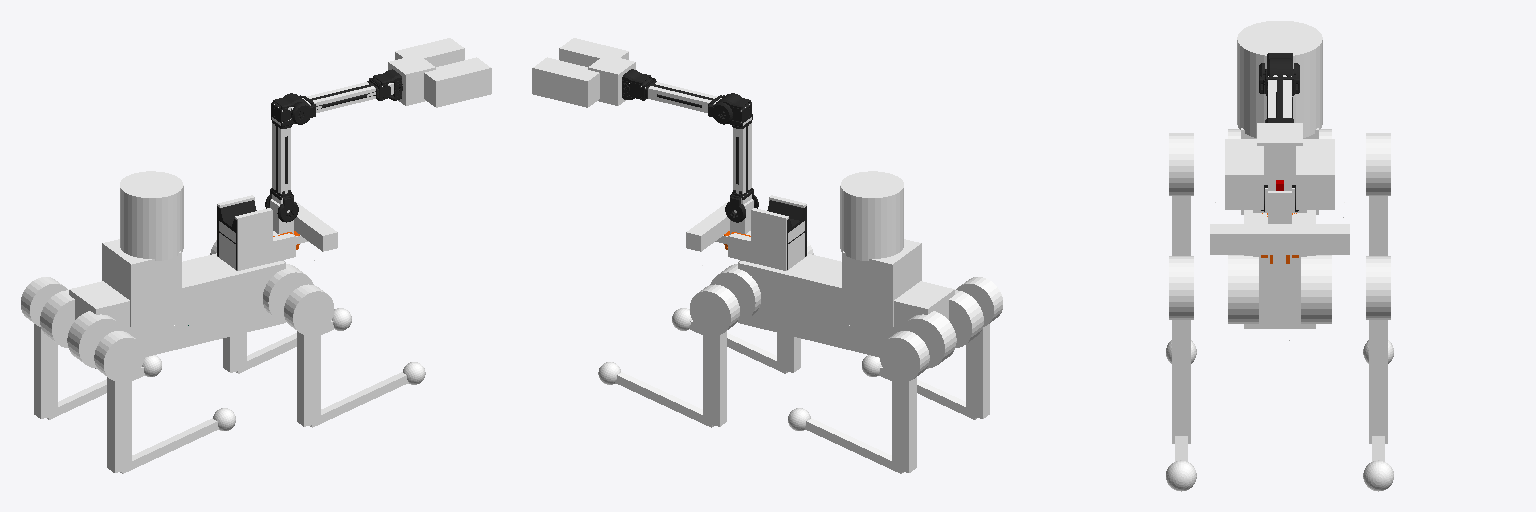
--- What the picture shows (computed from the rendered views, not written in the file) ---
The picture shows the robot from 3 angles, left to right: view 1: azimuth 30°, elevation 25°; view 2: azimuth 150°, elevation 25°; view 3: azimuth 270°, elevation 25°; orthographic projection.
Robot: go1 — 55 links, 54 joints (18 revolute, 2 prismatic, 34 fixed); root link base_link; default pose: all joints at 0 but 4 set to mid-range because 0 is outside their limits (FR_calf_joint = -1.78, FL_calf_joint = -1.78, RR_calf_joint = -1.78, RL_calf_joint = -1.78).
Visible links, largest first — view 1: trunk, robosense, robosense_bracket, open_manipulator_bracket, link3, gripper_link_sub, link4, RR_thigh, FR_thigh, RL_thigh, RR_thigh_shoulder, FR_thigh_shoulder (+12 smaller); view 2: trunk, robosense, robosense_bracket, open_manipulator_bracket, link3, gripper_link, link4, RL_thigh, FL_thigh, RR_thigh, RL_thigh_shoulder, FL_thigh_shoulder (+12 smaller); view 3: robosense, zed2, trunk, gripper_link, gripper_link_sub, link5, FR_thigh, FL_thigh, FR_hip, FL_hip, link4, FR_thigh_shoulder (+10 smaller).
Boxes of the visible links, bbox=[...] form: trunk: bbox=[69, 253, 285, 368]; robosense: bbox=[120, 171, 183, 260]; robosense_bracket: bbox=[102, 239, 181, 327]; open_manipulator_bracket: bbox=[217, 195, 295, 270]; link3: bbox=[265, 94, 306, 222]; gripper_link_sub: bbox=[424, 57, 491, 107]; link4: bbox=[284, 69, 402, 124]; RR_thigh: bbox=[107, 377, 131, 472]; FR_thigh: bbox=[297, 331, 320, 426]; RL_thigh: bbox=[34, 324, 57, 418]; RR_thigh_shoulder: bbox=[94, 331, 144, 381]; FR_thigh_shoulder: bbox=[284, 284, 333, 335]; trunk: bbox=[738, 253, 954, 368]; robosense: bbox=[840, 171, 903, 260]; robosense_bracket: bbox=[842, 239, 921, 327]; open_manipulator_bracket: bbox=[728, 195, 806, 270]; link3: bbox=[716, 94, 758, 222]; gripper_link: bbox=[532, 57, 599, 107]; link4: bbox=[622, 69, 741, 124]; RL_thigh: bbox=[892, 377, 916, 472]; FL_thigh: bbox=[703, 331, 726, 426]; RR_thigh: bbox=[966, 324, 989, 418]; RL_thigh_shoulder: bbox=[879, 331, 929, 381]; FL_thigh_shoulder: bbox=[690, 284, 739, 335]; robosense: bbox=[1237, 21, 1322, 137]; zed2: bbox=[1210, 224, 1349, 254]; trunk: bbox=[1244, 210, 1315, 328]; gripper_link: bbox=[1296, 139, 1334, 209]; gripper_link_sub: bbox=[1225, 139, 1263, 209]; link5: bbox=[1257, 123, 1302, 184]; FR_thigh: bbox=[1172, 320, 1190, 443]; FL_thigh: bbox=[1369, 320, 1387, 443]; FR_hip: bbox=[1228, 255, 1258, 323]; FL_hip: bbox=[1301, 255, 1331, 323]; link4: bbox=[1259, 63, 1299, 122]; FR_thigh_shoulder: bbox=[1169, 256, 1193, 319].
Size in the robot's own frame: 0.8165 by 0.2935 by 0.5705 metres.
5 mesh visuals loaded from 20 distinct referenced files (5 binary STL); not drawn: 29 (reference not matched to a file when rendering).

URDF robot description (go1):
<?xml version="1.0" ?>
<!-- =================================================================================== -->
<!-- |    This document was autogenerated by xacro from xacro/robot.xacro              | -->
<!-- |    EDITING THIS FILE BY HAND IS NOT RECOMMENDED                                 | -->
<!-- =================================================================================== -->
<robot name="go1">
  <material name="black">
    <color rgba="0.0 0.0 0.0 1.0"/>
  </material>
  <material name="blue">
    <color rgba="0.0 0.0 0.8 1.0"/>
  </material>
  <material name="green">
    <color rgba="0.0 0.8 0.0 1.0"/>
  </material>
  <material name="grey">
    <color rgba="0.2 0.2 0.2 1.0"/>
  </material>
  <material name="silver">
    <color rgba="0.9137254901960784 0.9137254901960784 0.8470588235294118 1.0"/>
  </material>
  <material name="orange">
    <color rgba="1.0 0.4235294117647059 0.0392156862745098 1.0"/>
  </material>
  <material name="brown">
    <color rgba="0.8705882352941177 0.8117647058823529 0.7647058823529411 1.0"/>
  </material>
  <material name="red">
    <color rgba="0.8 0.0 0.0 1.0"/>
  </material>
  <material name="white">
    <color rgba="1.0 1.0 1.0 1.0"/>
  </material>
  <material name="trans">
    <color rgba="1 1 1 0.2"/>
  </material>
  <!-- ros_control plugin -->
  <gazebo>
    <plugin filename="libgazebo_ros_control.so" name="gazebo_ros_control">
      <robotNamespace>/go1_gazebo</robotNamespace>
      <robotSimType>gazebo_ros_control/DefaultRobotHWSim</robotSimType>
    </plugin>
  </gazebo>
  <!-- Show the trajectory of trunk center. -->
  <gazebo>
    <plugin filename="libLinkPlot3DPlugin.so" name="3dplot">
      <frequency>10</frequency>
      <plot>
        <link>base</link>
        <pose>0 0 0 0 0 0</pose>
        <material>Gazebo/Yellow</material>
      </plot>
    </plugin>
  </gazebo>
  <!-- Show the trajectory of foot. You can add another trajectory about another foot. -->
  <!-- <gazebo>
        <plugin name="3dplot" filename="libLinkPlot3DPlugin.so">
            <frequency>100</frequency>
            <plot>
                <link>FL_foot</link>
                <pose>0 0 0 0 0 0</pose>
                <material>Gazebo/Green</material>
            </plot>
        </plugin>
    </gazebo> -->
  <gazebo>
    <plugin filename="libgazebo_ros_force.so" name="gazebo_ros_force">
      <bodyName>trunk</bodyName>
      <topicName>/apply_force/trunk</topicName>
    </plugin>
  </gazebo>
  <gazebo reference="imu_link">
    <gravity>true</gravity>
    <sensor name="imu_sensor" type="imu">
      <always_on>true</always_on>
      <update_rate>1000</update_rate>
      <visualize>true</visualize>
      <topic>__default_topic__</topic>
      <plugin filename="libgazebo_ros_imu_sensor.so" name="imu_plugin">
        <topicName>trunk_imu</topicName>
        <bodyName>imu_link</bodyName>
        <updateRateHZ>1000.0</updateRateHZ>
        <gaussianNoise>0.0</gaussianNoise>
        <xyzOffset>0 0 0</xyzOffset>
        <rpyOffset>0 0 0</rpyOffset>
        <frameName>imu_link</frameName>
      </plugin>
      <pose>0 0 0 0 0 0</pose>
    </sensor>
  </gazebo>
  <!-- Depth camera -->
  <!-- <gazebo>
        <plugin name="camera_plugin" filename="libgazebo_ros_openni_kinect.so">
            <baseline>0.025</baseline>
            <always_on>true</always_on>
            <updateRate>0.0</updateRate>
            <cameraName>unitree_camera_left</cameraName>
            <frameName>depthCamera_link_left</frameName>
            <imageTopicName>rgb/imageRaw_left</imageTopicName>
            <depthImageTopicName>depth/imageRaw_left</depthImageTopicName>
            <pointCloudTopicName>depth/points_left</pointCloudTopicName>
            <cameraInfoTopicName>rgb/cameraInfo_left</cameraInfoTopicName>              
            <depthImageCameraInfoTopicName>depth/cameraInfo_left</depthImageCameraInfoTopicName>            
            <pointCloudCutoff>0.1</pointCloudCutoff>                
            <pointCloudCutoffMax>1.5</pointCloudCutoffMax>                
            <distortionK1>0.0</distortionK1>
            <distortionK2>0.0</distortionK2>
            <distortionK3>0.0</distortionK3>
            <distortionT1>0.0</distortionT1>
            <distortionT2>0.0</distortionT2>
            <CxPrime>0.0</CxPrime>
            <Cx>0.0045</Cx>
            <Cy>0.0039</Cy>
            <focalLength>0.004</focalLength>
            <hackBaseline>0.0</hackBaseline>
        </plugin>
    </gazebo> -->
  <!-- <gazebo reference="depthCamera_link_left">
        <sensor name="unitree_camera_left" type="depth_camera">
            <update_rate>16</update_rate>
            <always_on>true</always_on>
            <visualize>true</visualize>
            <camera>
                <horizontal_fov>2.094</horizontal_fov>
                <image>
                    <width>928</width>
                    <height>800</height>
                    <format>R8G8B8</format>
                </image>
                <depth_camera></depth_camera>
                <clip>
                    <near>0.1</near>
                    <far>100</far>
                </clip>
            </camera>
            <plugin name="camera_plugin" filename="libgazebo_ros_openni_kinect.so">
                <baseline>0.025</baseline>
                <always_on>true</always_on>
                <updateRate>0.0</updateRate>
                <cameraName>unitree_camera_left</cameraName>
                <frameName>depthCamera_link_left</frameName>
                <imageTopicName>rgb/imageRaw_left</imageTopicName>
                <depthImageTopicName>depth/imageRaw_left</depthImageTopicName>
                <pointCloudTopicName>depth/points_left</pointCloudTopicName>
                <cameraInfoTopicName>rgb/cameraInfo_left</cameraInfoTopicName>              
                <depthImageCameraInfoTopicName>depth/cameraInfo_left</depthImageCameraInfoTopicName>            
                <pointCloudCutoff>0.1</pointCloudCutoff>                
                <pointCloudCutoffMax>1.5</pointCloudCutoffMax>                
                <distortionK1>0.0</distortionK1>
                <distortionK2>0.0</distortionK2>
                <distortionK3>0.0</distortionK3>
                <distortionT1>0.0</distortionT1>
                <distortionT2>0.0</distortionT2>
                <CxPrime>0.0</CxPrime>
                <Cx>0.0045</Cx>
                <Cy>0.0039</Cy>
                <focalLength>0.004</focalLength>
                <hackBaseline>0.0</hackBaseline>
            </plugin>
        </sensor>
    </gazebo> -->
  <gazebo reference="depthCamera_link_left">
    <sensor name="camera_link_camera" type="depth">
      <update_rate>20</update_rate>
      <camera>
        <horizontal_fov>1.047198</horizontal_fov>
        <image>
          <width>640</width>
          <height>480</height>
          <format>R8G8B8</format>
        </image>
        <clip>
          <near>0.05</near>
          <far>3</far>
        </clip>
      </camera>
      <plugin filename="libgazebo_ros_openni_kinect.so" name="camera_link_controller">
        <baseline>0.2</baseline>
        <alwaysOn>true</alwaysOn>
        <updateRate>1.0</updateRate>
        <cameraName>camera_link_ir</cameraName>
        <imageTopicName>/camera_link/color/image_raw</imageTopicName>
        <cameraInfoTopicName>/camera_link/color/camera_info</cameraInfoTopicName>
        <depthImageTopicName>/camera_link/depth/image_raw</depthImageTopicName>
        <depthImageInfoTopicName>/camera_link/depth/camera_info</depthImageInfoTopicName>
        <pointCloudTopicName>/camera_link/depth/points</pointCloudTopicName>
        <frameName>depthCamera_link_left</frameName>
        <pointCloudCutoff>0.5</pointCloudCutoff>
        <pointCloudCutoffMax>3.0</pointCloudCutoffMax>
        <distortionK1>0.00000001</distortionK1>
        <distortionK2>0.00000001</distortionK2>
        <distortionK3>0.00000001</distortionK3>
        <distortionT1>0.00000001</distortionT1>
        <distortionT2>0.00000001</distortionT2>
        <CxPrime>0</CxPrime>
        <Cx>0</Cx>
        <Cy>0</Cy>
        <focalLength>0</focalLength>
        <hackBaseline>0</hackBaseline>
      </plugin>
    </sensor>
  </gazebo>
  <!-- Foot contacts. -->
  <gazebo reference="FR_calf">
    <sensor name="FR_foot_contact" type="contact">
      <update_rate>100</update_rate>
      <plugin filename="libunitreeFootContactPlugin.so" name="contactPlugin"/>
      <contact>
        <visual> <!-- a -->FR_calf_fixed_joint_lump__FR_foot_collision_1<material name="trans"/></visual> <!-- a -->
      </contact>
    </sensor>
  </gazebo>
  <gazebo reference="FL_calf">
    <sensor name="FL_foot_contact" type="contact">
      <update_rate>100</update_rate>
      <plugin filename="libunitreeFootContactPlugin.so" name="contactPlugin"/>
      <contact>
        <visual> <!-- a -->FL_calf_fixed_joint_lump__FL_foot_collision_1<material name="trans"/></visual> <!-- a -->
      </contact>
    </sensor>
  </gazebo>
  <gazebo reference="RR_calf">
    <sensor name="RR_foot_contact" type="contact">
      <update_rate>100</update_rate>
      <plugin filename="libunitreeFootContactPlugin.so" name="contactPlugin"/>
      <contact>
        <visual> <!-- a -->RR_calf_fixed_joint_lump__RR_foot_collision_1<material name="trans"/></visual> <!-- a -->
      </contact>
    </sensor>
  </gazebo>
  <gazebo reference="RL_calf">
    <sensor name="RL_foot_contact" type="contact">
      <update_rate>100</update_rate>
      <plugin filename="libunitreeFootContactPlugin.so" name="contactPlugin"/>
      <contact>
        <visual> <!-- a -->RL_calf_fixed_joint_lump__RL_foot_collision_1<material name="trans"/></visual> <!-- a -->
      </contact>
    </sensor>
  </gazebo>
  <!-- Visualization of Foot contacts. -->
  <gazebo reference="FR_foot">
    <visual>
      <plugin filename="libunitreeDrawForcePlugin.so" name="drawForcePlugin">
        <topicName>FR_foot_contact</topicName>
      </plugin>
    </visual>
  </gazebo>
  <gazebo reference="FL_foot">
    <visual>
      <plugin filename="libunitreeDrawForcePlugin.so" name="drawForcePlugin">
        <topicName>FL_foot_contact</topicName>
      </plugin>
    </visual>
  </gazebo>
  <gazebo reference="RR_foot">
    <visual>
      <plugin filename="libunitreeDrawForcePlugin.so" name="drawForcePlugin">
        <topicName>RR_foot_contact</topicName>
      </plugin>
    </visual>
  </gazebo>
  <gazebo reference="RL_foot">
    <visual>
      <plugin filename="libunitreeDrawForcePlugin.so" name="drawForcePlugin">
        <topicName>RL_foot_contact</topicName>
      </plugin>
    </visual>
  </gazebo>
  <gazebo reference="base">
    <material>Gazebo/Green</material>
    <turnGravityOff>false</turnGravityOff>
  </gazebo>
  <gazebo reference="trunk">
    <mu1>0.2</mu1>
    <mu2>0.2</mu2>
    <kp value="1000000.0"/>
    <kd value="1.0"/>
  </gazebo>
  <gazebo reference="stick_link">
    <mu1>0.2</mu1>
    <mu2>0.2</mu2>
    <material>Gazebo/White</material>
  </gazebo>
  <gazebo reference="imu_link">
    <mu1>0.2</mu1>
    <mu2>0.2</mu2>
    <material>Gazebo/Red</material>
  </gazebo>
  <!-- FL leg -->
  <gazebo reference="FL_hip">
    <mu1>0.2</mu1>
    <mu2>0.2</mu2>
    <material>Gazebo/DarkGrey</material>
  </gazebo>
  <gazebo reference="FL_thigh">
    <mu1>0.2</mu1>
    <mu2>0.2</mu2>
    <self_collide>1</self_collide>
    <material>Gazebo/DarkGrey</material>
    <kp value="1000000.0"/>
    <kd value="1.0"/>
  </gazebo>
  <gazebo reference="FL_calf">
    <mu1>0.2</mu1>
    <mu2>0.2</mu2>
    <self_collide>1</self_collide>
  </gazebo>
  <gazebo reference="FL_foot">
    <mu1>0.6</mu1>
    <mu2>0.6</mu2>
    <self_collide>1</self_collide>
    <material>Gazebo/DarkGrey</material>
    <kp value="1000000.0"/>
    <kd value="1.0"/>
  </gazebo>
  <!-- FR leg -->
  <gazebo reference="FR_hip">
    <mu1>0.2</mu1>
    <mu2>0.2</mu2>
    <material>Gazebo/DarkGrey</material>
  </gazebo>
  <gazebo reference="FR_thigh">
    <mu1>0.2</mu1>
    <mu2>0.2</mu2>
    <self_collide>1</self_collide>
    <material>Gazebo/DarkGrey</material>
    <kp value="1000000.0"/>
    <kd value="1.0"/>
  </gazebo>
  <gazebo reference="FR_calf">
    <mu1>0.2</mu1>
    <mu2>0.2</mu2>
    <self_collide>1</self_collide>
  </gazebo>
  <gazebo reference="FR_foot">
    <mu1>0.6</mu1>
    <mu2>0.6</mu2>
    <self_collide>1</self_collide>
    <material>Gazebo/DarkGrey</material>
    <kp value="1000000.0"/>
    <kd value="1.0"/>
  </gazebo>
  <!-- RL leg -->
  <gazebo reference="RL_hip">
    <mu1>0.2</mu1>
    <mu2>0.2</mu2>
    <material>Gazebo/DarkGrey</material>
  </gazebo>
  <gazebo reference="RL_thigh">
    <mu1>0.2</mu1>
    <mu2>0.2</mu2>
    <self_collide>1</self_collide>
    <material>Gazebo/DarkGrey</material>
    <kp value="1000000.0"/>
    <kd value="1.0"/>
  </gazebo>
  <gazebo reference="RL_calf">
    <mu1>0.2</mu1>
    <mu2>0.2</mu2>
    <self_collide>1</self_collide>
  </gazebo>
  <gazebo reference="RL_foot">
    <mu1>0.6</mu1>
    <mu2>0.6</mu2>
    <self_collide>1</self_collide>
    <material>Gazebo/DarkGrey</material>
    <kp value="1000000.0"/>
    <kd value="1.0"/>
  </gazebo>
  <!-- RR leg -->
  <gazebo reference="RR_hip">
    <mu1>0.2</mu1>
    <mu2>0.2</mu2>
    <material>Gazebo/DarkGrey</material>
  </gazebo>
  <gazebo reference="RR_thigh">
    <mu1>0.2</mu1>
    <mu2>0.2</mu2>
    <self_collide>1</self_collide>
    <material>Gazebo/DarkGrey</material>
    <kp value="1000000.0"/>
    <kd value="1.0"/>
  </gazebo>
  <gazebo reference="RR_calf">
    <mu1>0.2</mu1>
    <mu2>0.2</mu2>
    <self_collide>1</self_collide>
  </gazebo>
  <gazebo reference="RR_foot">
    <mu1>0.6</mu1>
    <mu2>0.6</mu2>
    <self_collide>1</self_collide>
    <material>Gazebo/DarkGrey</material>
    <kp value="1000000.0"/>
    <kd value="1.0"/>
  </gazebo>
  <link name="base_link">
    <visual>
      <origin rpy="0 0 0" xyz="0 0 0"/>
      <geometry>
        <box size="0.001 0.001 0.001"/>
      </geometry>
    </visual>
  </link>
  <joint name="floating_base" type="fixed">
    <origin rpy="0 0 0" xyz="0 0 0"/>
    <parent link="base_link"/>
    <child link="trunk"/>
  </joint>
  <link name="trunk">
    <visual>
      <origin rpy="0 0 0" xyz="0 0 0"/>
      <geometry>
        <mesh filename="package://go1_description/meshes/trunk.dae" scale="1 1 1"/>
      </geometry>
      <!-- <material name="orange"/> -->
    </visual>
    <visual> <!-- a -->
      <origin rpy="0 0 0" xyz="0 0 0"/>
      <geometry>
        <box size="0.3762 0.0935 0.114"/>
      </geometry>
    <material name="trans"/></visual> <!-- a -->
    <inertial>
      <origin rpy="0 0 0" xyz="0.0223 0.002 -0.0005"/>
      <mass value="5.204"/>
      <inertia ixx="0.0168352186" ixy="0.0004636141" ixz="0.0002367952" iyy="0.0656071082" iyz="3.6671e-05" izz="0.0742720659"/>
    </inertial>
  </link>
  <joint name="imu_joint" type="fixed">
    <parent link="trunk"/>
    <child link="imu_link"/>
    <origin rpy="0 0 0" xyz="-0.01592 -0.06659 -0.00617"/>
  </joint>
  <link name="imu_link">
    <inertial>
      <mass value="0.001"/>
      <origin rpy="0 0 0" xyz="0 0 0"/>
      <inertia ixx="0.0001" ixy="0" ixz="0" iyy="0.0001" iyz="0" izz="0.0001"/>
    </inertial>
    <visual>
      <origin rpy="0 0 0" xyz="0 0 0"/>
      <geometry>
        <box size="0.001 0.001 0.001"/>
      </geometry>
      <!-- <material name="red"/> -->
    </visual>
    <visual> <!-- a -->
      <origin rpy="0 0 0" xyz="0 0 0"/>
      <geometry>
        <box size=".001 .001 .001"/>
      </geometry>
    <material name="trans"/></visual> <!-- a -->
  </link>
  <joint name="FR_hip_joint" type="revolute">
    <origin rpy="0 0 0" xyz="0.1881 -0.04675 0"/>
    <parent link="trunk"/>
    <child link="FR_hip"/>
    <axis xyz="1 0 0"/>
    <dynamics damping="0.01" friction="0.2"/>
    <limit effort="23.7" lower="-1.0471975511965976" upper="1.0471975511965976" velocity="30.1"/>
  </joint>
  <link name="FR_hip">
    <visual>
      <origin rpy="3.141592653589793 0 0" xyz="0 0 0"/>
      <geometry>
        <mesh filename="package://go1_description/meshes/hip.dae" scale="1 1 1"/>
      </geometry>
      <!-- <material name="orange"/> -->
    </visual>
    <visual> <!-- a -->
      <origin rpy="1.5707963267948966 0 0" xyz="0 0 0"/>
      <geometry>
        <cylinder length="0.04" radius="0.046"/>
      </geometry>
    <material name="trans"/></visual> <!-- a -->
    <inertial>
      <origin rpy="0 0 0" xyz="-0.00541 0.00074 6e-06"/>
      <mass value="0.591"/>
      <inertia ixx="0.000374268192" ixy="-3.6844422e-05" ixz="-9.86754e-07" iyy="0.000635923669" iyz="1.172894e-06" izz="0.000457647394"/>
    </inertial>
  </link>
  <joint name="FR_hip_fixed" type="fixed">
    <origin rpy="0 0 0" xyz="0 -0.08 0"/>
    <parent link="FR_hip"/>
    <child link="FR_thigh_shoulder"/>
  </joint>
  <!-- this link is only for collision -->
  <link name="FR_thigh_shoulder">
    <visual> <!-- a -->
      <origin rpy="1.5707963267948966 0 0" xyz="0 0 0"/>
      <geometry>
        <cylinder length="0.032" radius="0.041"/>
      </geometry>
    <material name="trans"/></visual> <!-- a -->
  </link>
  <joint name="FR_thigh_joint" type="revolute">
    <origin rpy="0 0 0" xyz="0 -0.08 0"/>
    <parent link="FR_hip"/>
    <child link="FR_thigh"/>
    <axis xyz="0 1 0"/>
    <dynamics damping="0.01" friction="0.2"/>
    <limit effort="23.7" lower="-0.6632251157578452" upper="2.9670597283903604" velocity="30.1"/>
  </joint>
  <link name="FR_thigh">
    <visual>
      <origin rpy="0 0 0" xyz="0 0 0"/>
      <geometry>
        <mesh filename="package://go1_description/meshes/thigh_mirror.dae" scale="1 1 1"/>
      </geometry>
      <!-- <material name="orange"/> -->
    </visual>
    <visual> <!-- a -->
      <origin rpy="0 1.5707963267948966 0" xyz="0 0 -0.1065"/>
      <geometry>
        <box size="0.213 0.0245 0.034"/>
      </geometry>
    <material name="trans"/></visual> <!-- a -->
    <inertial>
      <origin rpy="0 0 0" xyz="-0.003468 0.018947 -0.032736"/>
      <mass value="0.92"/>
      <inertia ixx="0.005851561134" ixy="-1.783284e-06" ixz="0.000328291374" iyy="0.005596155105" iyz="-2.1430713e-05" izz="0.00107157026"/>
    </inertial>
  </link>
  <joint name="FR_calf_joint" type="revolute">
    <origin rpy="0 0 0" xyz="0 0 -0.213"/>
    <parent link="FR_thigh"/>
    <child link="FR_calf"/>
    <axis xyz="0 1 0"/>
    <dynamics damping="0.01" friction="0.2"/>
    <limit effort="23.7" lower="-2.722713633111154" upper="-0.8377580409572781" velocity="30.1"/>
  </joint>
  <link name="FR_calf">
    <visual>
      <origin rpy="0 0 0" xyz="0 0 0"/>
      <geometry>
        <mesh filename="package://go1_description/meshes/calf.dae" scale="1 1 1"/>
      </geometry>
      <!-- <material name="orange"/> -->
    </visual>
    <visual> <!-- a -->
      <origin rpy="0 1.5707963267948966 0" xyz="0 0 -0.1065"/>
      <geometry>
        <box size="0.213 0.016 0.016"/>
      </geometry>
    <material name="trans"/></visual> <!-- a -->
    <inertial>
      <origin rpy="0 0 0" xyz="0.006286 0.001307 -0.122269"/>
      <mass value="0.131"/>
      <inertia ixx="0.002939186297" ixy="1.440899e-06" ixz="-0.00010535955" iyy="0.00295576935" iyz="-2.4397752e-05" izz="3.0273372e-05"/>
    </inertial>
  </link>
  <joint name="FR_foot_fixed" type="fixed">
    <origin rpy="0 0 0" xyz="0 0 -0.213"/>
    <parent link="FR_calf"/>
    <child link="FR_foot"/>
  </joint>
  <link name="FR_foot">
    <visual>
      <origin rpy="0 0 0" xyz="0 0 0"/>
      <geometry>
        <sphere radius="0.01"/>
      </geometry>
      <!-- <material name="orange"/> -->
    </visual>
    <visual> <!-- a -->
      <origin rpy="0 0 0" xyz="0 0 0"/>
      <geometry>
        <sphere radius="0.02"/>
      </geometry>
    <material name="trans"/></visual> <!-- a -->
    <inertial>
      <mass value="0.06"/>
      <inertia ixx="9.600000000000001e-06" ixy="0.0" ixz="0.0" iyy="9.600000000000001e-06" iyz="0.0" izz="9.600000000000001e-06"/>
    </inertial>
  </link>
  <transmission name="FR_hip_tran">
    <type>transmission_interface/SimpleTransmission</type>
    <joint name="FR_hip_joint">
      <hardwareInterface>hardware_interface/EffortJointInterface</hardwareInterface>
    </joint>
    <actuator name="FR_hip_motor">
      <hardwareInterface>hardware_interface/EffortJointInterface</hardwareInterface>
      <mechanicalReduction>1</mechanicalReduction>
    </actuator>
  </transmission>
  <transmission name="FR_thigh_tran">
    <type>transmission_interface/SimpleTransmission</type>
    <joint name="FR_thigh_joint">
      <hardwareInterface>hardware_interface/EffortJointInterface</hardwareInterface>
    </joint>
    <actuator name="FR_thigh_motor">
      <hardwareInterface>hardware_interface/EffortJointInterface</hardwareInterface>
      <mechanicalReduction>1</mechanicalReduction>
    </actuator>
  </transmission>
  <transmission name="FR_calf_tran">
    <type>transmission_interface/SimpleTransmission</type>
    <joint name="FR_calf_joint">
      <hardwareInterface>hardware_interface/EffortJointInterface</hardwareInterface>
    </joint>
    <actuator name="FR_calf_motor">
      <hardwareInterface>hardware_interface/EffortJointInterface</hardwareInterface>
      <mechanicalReduction>1</mechanicalReduction>
    </actuator>
  </transmission>
  <joint name="FL_hip_joint" type="revolute">
    <origin rpy="0 0 0" xyz="0.1881 0.04675 0"/>
    <parent link="trunk"/>
    <child link="FL_hip"/>
    <axis xyz="1 0 0"/>
    <dynamics damping="0.01" friction="0.2"/>
    <limit effort="23.7" lower="-1.0471975511965976" upper="1.0471975511965976" velocity="30.1"/>
  </joint>
  <link name="FL_hip">
    <visual>
      <origin rpy="0 0 0" xyz="0 0 0"/>
      <geometry>
        <mesh filename="package://go1_description/meshes/hip.dae" scale="1 1 1"/>
      </geometry>
      <!-- <material name="orange"/> -->
    </visual>
    <visual> <!-- a -->
      <origin rpy="1.5707963267948966 0 0" xyz="0 0 0"/>
      <geometry>
        <cylinder length="0.04" radius="0.046"/>
      </geometry>
    <material name="trans"/></visual> <!-- a -->
    <inertial>
      <origin rpy="0 0 0" xyz="-0.00541 -0.00074 6e-06"/>
      <mass value="0.591"/>
      <inertia ixx="0.000374268192" ixy="3.6844422e-05" ixz="-9.86754e-07" iyy="0.000635923669" iyz="-1.172894e-06" izz="0.000457647394"/>
    </inertial>
  </link>
  <joint name="FL_hip_fixed" type="fixed">
    <origin rpy="0 0 0" xyz="0 0.08 0"/>
    <parent link="FL_hip"/>
    <child link="FL_thigh_shoulder"/>
  </joint>
  <!-- this link is only for collision -->
  <link name="FL_thigh_shoulder">
    <visual> <!-- a -->
      <origin rpy="1.5707963267948966 0 0" xyz="0 0 0"/>
      <geometry>
        <cylinder length="0.032" radius="0.041"/>
      </geometry>
    <material name="trans"/></visual> <!-- a -->
  </link>
  <joint name="FL_thigh_joint" type="revolute">
    <origin rpy="0 0 0" xyz="0 0.08 0"/>
    <parent link="FL_hip"/>
    <child link="FL_thigh"/>
    <axis xyz="0 1 0"/>
    <dynamics damping="0.01" friction="0.2"/>
    <limit effort="23.7" lower="-0.6632251157578452" upper="2.9670597283903604" velocity="30.1"/>
  </joint>
  <link name="FL_thigh">
    <visual>
      <origin rpy="0 0 0" xyz="0 0 0"/>
      <geometry>
        <mesh filename="package://go1_description/meshes/thigh.dae" scale="1 1 1"/>
      </geometry>
      <!-- <material name="orange"/> -->
    </visual>
    <visual> <!-- a -->
      <origin rpy="0 1.5707963267948966 0" xyz="0 0 -0.1065"/>
      <geometry>
        <box size="0.213 0.0245 0.034"/>
      </geometry>
    <material name="trans"/></visual> <!-- a -->
    <inertial>
      <origin rpy="0 0 0" xyz="-0.003468 -0.018947 -0.032736"/>
      <mass value="0.92"/>
      <inertia ixx="0.005851561134" ixy="1.783284e-06" ixz="0.000328291374" iyy="0.005596155105" iyz="2.1430713e-05" izz="0.00107157026"/>
    </inertial>
  </link>
  <joint name="FL_calf_joint" type="revolute">
    <origin rpy="0 0 0" xyz="0 0 -0.213"/>
    <parent link="FL_thigh"/>
    <child link="FL_calf"/>
    <axis xyz="0 1 0"/>
    <dynamics damping="0.01" friction="0.2"/>
    <limit effort="23.7" lower="-2.722713633111154" upper="-0.8377580409572781" velocity="30.1"/>
  </joint>
  <link name="FL_calf">
    <visual>
      <origin rpy="0 0 0" xyz="0 0 0"/>
      <geometry>
        <mesh filename="package://go1_description/meshes/calf.dae" scale="1 1 1"/>
      </geometry>
      <!-- <material name="orange"/> -->
    </visual>
    <visual> <!-- a -->
      <origin rpy="0 1.5707963267948966 0" xyz="0 0 -0.1065"/>
      <geometry>
        <box size="0.213 0.016 0.016"/>
      </geometry>
    <material name="trans"/></visual> <!-- a -->
    <inertial>
      <origin rpy="0 0 0" xyz="0.006286 0.001307 -0.122269"/>
      <mass value="0.131"/>
      <inertia ixx="0.002939186297" ixy="1.440899e-06" ixz="-0.00010535955" iyy="0.00295576935" iyz="-2.4397752e-05" izz="3.0273372e-05"/>
    </inertial>
  </link>
  <joint name="FL_foot_fixed" type="fixed">
    <origin rpy="0 0 0" xyz="0 0 -0.213"/>
    <parent link="FL_calf"/>
    <child link="FL_foot"/>
  </joint>
  <link name="FL_foot">
    <visual>
      <origin rpy="0 0 0" xyz="0 0 0"/>
      <geometry>
        <sphere radius="0.01"/>
      </geometry>
      <!-- <material name="orange"/> -->
    </visual>
    <visual> <!-- a -->
      <origin rpy="0 0 0" xyz="0 0 0"/>
      <geometry>
        <sphere radius="0.02"/>
      </geometry>
    <material name="trans"/></visual> <!-- a -->
    <inertial>
      <mass value="0.06"/>
      <inertia ixx="9.600000000000001e-06" ixy="0.0" ixz="0.0" iyy="9.600000000000001e-06" iyz="0.0" izz="9.600000000000001e-06"/>
    </inertial>
  </link>
  <transmission name="FL_hip_tran">
    <type>transmission_interface/SimpleTransmission</type>
    <joint name="FL_hip_joint">
      <hardwareInterface>hardware_interface/EffortJointInterface</hardwareInterface>
    </joint>
    <actuator name="FL_hip_motor">
      <hardwareInterface>hardware_interface/EffortJointInterface</hardwareInterface>
      <mechanicalReduction>1</mechanicalReduction>
    </actuator>
  </transmission>
  <transmission name="FL_thigh_tran">
    <type>transmission_interface/SimpleTransmission</type>
    <joint name="FL_thigh_joint">
      <hardwareInterface>hardware_interface/EffortJointInterface</hardwareInterface>
    </joint>
    <actuator name="FL_thigh_motor">
      <hardwareInterface>hardware_interface/EffortJointInterface</hardwareInterface>
      <mechanicalReduction>1</mechanicalReduction>
    </actuator>
  </transmission>
  <transmission name="FL_calf_tran">
    <type>transmission_interface/SimpleTransmission</type>
    <joint name="FL_calf_joint">
      <hardwareInterface>hardware_interface/EffortJointInterface</hardwareInterface>
    </joint>
    <actuator name="FL_calf_motor">
      <hardwareInterface>hardware_interface/EffortJointInterface</hardwareInterface>
      <mechanicalReduction>1</mechanicalReduction>
    </actuator>
  </transmission>
  <joint name="RR_hip_joint" type="revolute">
    <origin rpy="0 0 0" xyz="-0.1881 -0.04675 0"/>
    <parent link="trunk"/>
    <child link="RR_hip"/>
    <axis xyz="1 0 0"/>
    <dynamics damping="0.01" friction="0.2"/>
    <limit effort="23.7" lower="-1.0471975511965976" upper="1.0471975511965976" velocity="30.1"/>
  </joint>
  <link name="RR_hip">
    <visual>
      <origin rpy="3.141592653589793 3.141592653589793 0" xyz="0 0 0"/>
      <geometry>
        <mesh filename="package://go1_description/meshes/hip.dae" scale="1 1 1"/>
      </geometry>
      <!-- <material name="orange"/> -->
    </visual>
    <visual> <!-- a -->
      <origin rpy="1.5707963267948966 0 0" xyz="0 0 0"/>
      <geometry>
        <cylinder length="0.04" radius="0.046"/>
      </geometry>
    <material name="trans"/></visual> <!-- a -->
    <inertial>
      <origin rpy="0 0 0" xyz="0.00541 0.00074 6e-06"/>
      <mass value="0.591"/>
      <inertia ixx="0.000374268192" ixy="3.6844422e-05" ixz="9.86754e-07" iyy="0.000635923669" iyz="1.172894e-06" izz="0.000457647394"/>
    </inertial>
  </link>
  <joint name="RR_hip_fixed" type="fixed">
    <origin rpy="0 0 0" xyz="0 -0.08 0"/>
    <parent link="RR_hip"/>
    <child link="RR_thigh_shoulder"/>
  </joint>
  <!-- this link is only for collision -->
  <link name="RR_thigh_shoulder">
    <visual> <!-- a -->
      <origin rpy="1.5707963267948966 0 0" xyz="0 0 0"/>
      <geometry>
        <cylinder length="0.032" radius="0.041"/>
      </geometry>
    <material name="trans"/></visual> <!-- a -->
  </link>
  <joint name="RR_thigh_joint" type="revolute">
    <origin rpy="0 0 0" xyz="0 -0.08 0"/>
    <parent link="RR_hip"/>
    <child link="RR_thigh"/>
    <axis xyz="0 1 0"/>
    <dynamics damping="0.01" friction="0.2"/>
    <limit effort="23.7" lower="-0.6632251157578452" upper="2.9670597283903604" velocity="30.1"/>
  </joint>
  <link name="RR_thigh">
    <visual>
      <origin rpy="0 0 0" xyz="0 0 0"/>
      <geometry>
        <mesh filename="package://go1_description/meshes/thigh_mirror.dae" scale="1 1 1"/>
      </geometry>
      <!-- <material name="orange"/> -->
    </visual>
    <visual> <!-- a -->
      <origin rpy="0 1.5707963267948966 0" xyz="0 0 -0.1065"/>
      <geometry>
        <box size="0.213 0.0245 0.034"/>
      </geometry>
    <material name="trans"/></visual> <!-- a -->
    <inertial>
      <origin rpy="0 0 0" xyz="-0.003468 0.018947 -0.032736"/>
      <mass value="0.92"/>
      <inertia ixx="0.005851561134" ixy="-1.783284e-06" ixz="0.000328291374" iyy="0.005596155105" iyz="-2.1430713e-05" izz="0.00107157026"/>
    </inertial>
  </link>
  <joint name="RR_calf_joint" type="revolute">
    <origin rpy="0 0 0" xyz="0 0 -0.213"/>
    <parent link="RR_thigh"/>
    <child link="RR_calf"/>
    <axis xyz="0 1 0"/>
    <dynamics damping="0.01" friction="0.2"/>
    <limit effort="23.7" lower="-2.722713633111154" upper="-0.8377580409572781" velocity="30.1"/>
  </joint>
  <link name="RR_calf">
    <visual>
      <origin rpy="0 0 0" xyz="0 0 0"/>
      <geometry>
        <mesh filename="package://go1_description/meshes/calf.dae" scale="1 1 1"/>
      </geometry>
      <!-- <material name="orange"/> -->
    </visual>
    <visual> <!-- a -->
      <origin rpy="0 1.5707963267948966 0" xyz="0 0 -0.1065"/>
      <geometry>
        <box size="0.213 0.016 0.016"/>
      </geometry>
    <material name="trans"/></visual> <!-- a -->
    <inertial>
      <origin rpy="0 0 0" xyz="0.006286 0.001307 -0.122269"/>
      <mass value="0.131"/>
      <inertia ixx="0.002939186297" ixy="1.440899e-06" ixz="-0.00010535955" iyy="0.00295576935" iyz="-2.4397752e-05" izz="3.0273372e-05"/>
    </inertial>
  </link>
  <joint name="RR_foot_fixed" type="fixed">
    <origin rpy="0 0 0" xyz="0 0 -0.213"/>
    <parent link="RR_calf"/>
    <child link="RR_foot"/>
  </joint>
  <link name="RR_foot">
    <visual>
      <origin rpy="0 0 0" xyz="0 0 0"/>
      <geometry>
        <sphere radius="0.01"/>
      </geometry>
      <!-- <material name="orange"/> -->
    </visual>
    <visual> <!-- a -->
      <origin rpy="0 0 0" xyz="0 0 0"/>
      <geometry>
        <sphere radius="0.02"/>
      </geometry>
    <material name="trans"/></visual> <!-- a -->
    <inertial>
      <mass value="0.06"/>
      <inertia ixx="9.600000000000001e-06" ixy="0.0" ixz="0.0" iyy="9.600000000000001e-06" iyz="0.0" izz="9.600000000000001e-06"/>
    </inertial>
  </link>
  <transmission name="RR_hip_tran">
    <type>transmission_interface/SimpleTransmission</type>
    <joint name="RR_hip_joint">
      <hardwareInterface>hardware_interface/EffortJointInterface</hardwareInterface>
    </joint>
    <actuator name="RR_hip_motor">
      <hardwareInterface>hardware_interface/EffortJointInterface</hardwareInterface>
      <mechanicalReduction>1</mechanicalReduction>
    </actuator>
  </transmission>
  <transmission name="RR_thigh_tran">
    <type>transmission_interface/SimpleTransmission</type>
    <joint name="RR_thigh_joint">
      <hardwareInterface>hardware_interface/EffortJointInterface</hardwareInterface>
    </joint>
    <actuator name="RR_thigh_motor">
      <hardwareInterface>hardware_interface/EffortJointInterface</hardwareInterface>
      <mechanicalReduction>1</mechanicalReduction>
    </actuator>
  </transmission>
  <transmission name="RR_calf_tran">
    <type>transmission_interface/SimpleTransmission</type>
    <joint name="RR_calf_joint">
      <hardwareInterface>hardware_interface/EffortJointInterface</hardwareInterface>
    </joint>
    <actuator name="RR_calf_motor">
      <hardwareInterface>hardware_interface/EffortJointInterface</hardwareInterface>
      <mechanicalReduction>1</mechanicalReduction>
    </actuator>
  </transmission>
  <joint name="RL_hip_joint" type="revolute">
    <origin rpy="0 0 0" xyz="-0.1881 0.04675 0"/>
    <parent link="trunk"/>
    <child link="RL_hip"/>
    <axis xyz="1 0 0"/>
    <dynamics damping="0.01" friction="0.2"/>
    <limit effort="23.7" lower="-1.0471975511965976" upper="1.0471975511965976" velocity="30.1"/>
  </joint>
  <link name="RL_hip">
    <visual>
      <origin rpy="0 3.141592653589793 0" xyz="0 0 0"/>
      <geometry>
        <mesh filename="package://go1_description/meshes/hip.dae" scale="1 1 1"/>
      </geometry>
      <!-- <material name="orange"/> -->
    </visual>
    <visual> <!-- a -->
      <origin rpy="1.5707963267948966 0 0" xyz="0 0 0"/>
      <geometry>
        <cylinder length="0.04" radius="0.046"/>
      </geometry>
    <material name="trans"/></visual> <!-- a -->
    <inertial>
      <origin rpy="0 0 0" xyz="0.00541 -0.00074 6e-06"/>
      <mass value="0.591"/>
      <inertia ixx="0.000374268192" ixy="-3.6844422e-05" ixz="9.86754e-07" iyy="0.000635923669" iyz="-1.172894e-06" izz="0.000457647394"/>
    </inertial>
  </link>
  <joint name="RL_hip_fixed" type="fixed">
    <origin rpy="0 0 0" xyz="0 0.08 0"/>
    <parent link="RL_hip"/>
    <child link="RL_thigh_shoulder"/>
  </joint>
  <!-- this link is only for collision -->
  <link name="RL_thigh_shoulder">
    <visual> <!-- a -->
      <origin rpy="1.5707963267948966 0 0" xyz="0 0 0"/>
      <geometry>
        <cylinder length="0.032" radius="0.041"/>
      </geometry>
    <material name="trans"/></visual> <!-- a -->
  </link>
  <joint name="RL_thigh_joint" type="revolute">
    <origin rpy="0 0 0" xyz="0 0.08 0"/>
    <parent link="RL_hip"/>
    <child link="RL_thigh"/>
    <axis xyz="0 1 0"/>
    <dynamics damping="0.01" friction="0.2"/>
    <limit effort="23.7" lower="-0.6632251157578452" upper="2.9670597283903604" velocity="30.1"/>
  </joint>
  <link name="RL_thigh">
    <visual>
      <origin rpy="0 0 0" xyz="0 0 0"/>
      <geometry>
        <mesh filename="package://go1_description/meshes/thigh.dae" scale="1 1 1"/>
      </geometry>
      <!-- <material name="orange"/> -->
    </visual>
    <visual> <!-- a -->
      <origin rpy="0 1.5707963267948966 0" xyz="0 0 -0.1065"/>
      <geometry>
        <box size="0.213 0.0245 0.034"/>
      </geometry>
    <material name="trans"/></visual> <!-- a -->
    <inertial>
      <origin rpy="0 0 0" xyz="-0.003468 -0.018947 -0.032736"/>
      <mass value="0.92"/>
      <inertia ixx="0.005851561134" ixy="1.783284e-06" ixz="0.000328291374" iyy="0.005596155105" iyz="2.1430713e-05" izz="0.00107157026"/>
    </inertial>
  </link>
  <joint name="RL_calf_joint" type="revolute">
    <origin rpy="0 0 0" xyz="0 0 -0.213"/>
    <parent link="RL_thigh"/>
    <child link="RL_calf"/>
    <axis xyz="0 1 0"/>
    <dynamics damping="0.01" friction="0.2"/>
    <limit effort="23.7" lower="-2.722713633111154" upper="-0.8377580409572781" velocity="30.1"/>
  </joint>
  <link name="RL_calf">
    <visual>
      <origin rpy="0 0 0" xyz="0 0 0"/>
      <geometry>
        <mesh filename="package://go1_description/meshes/calf.dae" scale="1 1 1"/>
      </geometry>
      <!-- <material name="orange"/> -->
    </visual>
    <visual> <!-- a -->
      <origin rpy="0 1.5707963267948966 0" xyz="0 0 -0.1065"/>
      <geometry>
        <box size="0.213 0.016 0.016"/>
      </geometry>
    <material name="trans"/></visual> <!-- a -->
    <inertial>
      <origin rpy="0 0 0" xyz="0.006286 0.001307 -0.122269"/>
      <mass value="0.131"/>
      <inertia ixx="0.002939186297" ixy="1.440899e-06" ixz="-0.00010535955" iyy="0.00295576935" iyz="-2.4397752e-05" izz="3.0273372e-05"/>
    </inertial>
  </link>
  <joint name="RL_foot_fixed" type="fixed">
    <origin rpy="0 0 0" xyz="0 0 -0.213"/>
    <parent link="RL_calf"/>
    <child link="RL_foot"/>
  </joint>
  <link name="RL_foot">
    <visual>
      <origin rpy="0 0 0" xyz="0 0 0"/>
      <geometry>
        <sphere radius="0.01"/>
      </geometry>
      <!-- <material name="orange"/> -->
    </visual>
    <visual> <!-- a -->
      <origin rpy="0 0 0" xyz="0 0 0"/>
      <geometry>
        <sphere radius="0.02"/>
      </geometry>
    <material name="trans"/></visual> <!-- a -->
    <inertial>
      <mass value="0.06"/>
      <inertia ixx="9.600000000000001e-06" ixy="0.0" ixz="0.0" iyy="9.600000000000001e-06" iyz="0.0" izz="9.600000000000001e-06"/>
    </inertial>
  </link>
  <transmission name="RL_hip_tran">
    <type>transmission_interface/SimpleTransmission</type>
    <joint name="RL_hip_joint">
      <hardwareInterface>hardware_interface/EffortJointInterface</hardwareInterface>
    </joint>
    <actuator name="RL_hip_motor">
      <hardwareInterface>hardware_interface/EffortJointInterface</hardwareInterface>
      <mechanicalReduction>1</mechanicalReduction>
    </actuator>
  </transmission>
  <transmission name="RL_thigh_tran">
    <type>transmission_interface/SimpleTransmission</type>
    <joint name="RL_thigh_joint">
      <hardwareInterface>hardware_interface/EffortJointInterface</hardwareInterface>
    </joint>
    <actuator name="RL_thigh_motor">
      <hardwareInterface>hardware_interface/EffortJointInterface</hardwareInterface>
      <mechanicalReduction>1</mechanicalReduction>
    </actuator>
  </transmission>
  <transmission name="RL_calf_tran">
    <type>transmission_interface/SimpleTransmission</type>
    <joint name="RL_calf_joint">
      <hardwareInterface>hardware_interface/EffortJointInterface</hardwareInterface>
    </joint>
    <actuator name="RL_calf_motor">
      <hardwareInterface>hardware_interface/EffortJointInterface</hardwareInterface>
      <mechanicalReduction>1</mechanicalReduction>
    </actuator>
  </transmission>
  <joint name="camera_joint_face" type="fixed">
    <origin rpy="3.141592653589793 0 0" xyz="0.2785 0.0125 0.0167"/>
    <parent link="trunk"/>
    <child link="camera_face"/>
  </joint>
  <link name="camera_face">
    <visual> <!-- a -->
      <origin rpy="0 0 0" xyz="0 0 0"/>
      <geometry>
        <box size=".001 .001 .001"/>
      </geometry>
    <material name="trans"/></visual> <!-- a -->
    <visual>
      <origin rpy="0 0 0" xyz="0 0 0"/>
      <geometry>
        <mesh filename="package://go1_description/meshes/depthCamera.dae" scale="1 1 1"/>
      </geometry>
    </visual>
    <inertial>
      <mass value="1e-5"/>
      <origin rpy="0 0 0" xyz="0 0 0"/>
      <inertia ixx="1e-6" ixy="0" ixz="0" iyy="1e-6" iyz="0" izz="1e-6"/>
    </inertial>
  </link>
  <joint name="camera_optical_joint_face" type="fixed">
    <origin rpy="-1.5707963267948966 0 -1.5707963267948966" xyz="0 0 0"/>
    <parent link="camera_face"/>
    <child link="camera_optical_face"/>
  </joint>
  <link name="camera_optical_face">
        </link>
  <gazebo reference="camera_face">
    <!-- <material>Gazebo/Black</material> -->
    <sensor name="camera_face_camera" type="depth">
      <update_rate>16</update_rate>
      <camera>
        <horizontal_fov>2.094</horizontal_fov>
        <image>
          <width>928</width>
          <height>800</height>
          <format>R8G8B8</format>
        </image>
        <clip>
          <near>0.1</near>
          <far>5</far>
        </clip>
      </camera>
      <plugin filename="libgazebo_ros_openni_kinect.so" name="camera_face_controller">
        <baseline>0.025</baseline>
        <alwaysOn>true</alwaysOn>
        <updateRate>0.0</updateRate>
        <cameraName>camera_face_ir</cameraName>
        <imageTopicName>/camera_face/color/image_raw</imageTopicName>
        <cameraInfoTopicName>/camera_face/color/camera_info</cameraInfoTopicName>
        <depthImageTopicName>/camera_face/depth/image_raw</depthImageTopicName>
        <depthImageInfoTopicName>/camera_face/depth/camera_info</depthImageInfoTopicName>
        <!-- <pointCloudTopicName>/camera_${name}/depth/points</pointCloudTopicName> -->
        <pointCloudTopicName>/cam1/point_cloud_face</pointCloudTopicName>
        <frameName>camera_optical_face</frameName>
        <pointCloudCutoff>0.1</pointCloudCutoff>
        <pointCloudCutoffMax>1.5</pointCloudCutoffMax>
        <distortionK1>0.0</distortionK1>
        <distortionK2>0.0</distortionK2>
        <distortionK3>0.0</distortionK3>
        <distortionT1>0.0</distortionT1>
        <distortionT2>0.0</distortionT2>
        <CxPrime>0</CxPrime>
        <Cx>0.0045</Cx>
        <Cy>0.0039</Cy>
        <focalLength>0</focalLength>
        <hackBaseline>0</hackBaseline>
      </plugin>
    </sensor>
  </gazebo>
  <joint name="camera_joint_chin" type="fixed">
    <origin rpy="3.141592653589793 1.5707963267948966 0" xyz="0.2522 0.0125 -0.0436"/>
    <parent link="trunk"/>
    <child link="camera_chin"/>
  </joint>
  <link name="camera_chin">
    <visual> <!-- a -->
      <origin rpy="0 0 0" xyz="0 0 0"/>
      <geometry>
        <box size=".001 .001 .001"/>
      </geometry>
    <material name="trans"/></visual> <!-- a -->
    <visual>
      <origin rpy="0 0 0" xyz="0 0 0"/>
      <geometry>
        <mesh filename="package://go1_description/meshes/depthCamera.dae" scale="1 1 1"/>
      </geometry>
    </visual>
    <inertial>
      <mass value="1e-5"/>
      <origin rpy="0 0 0" xyz="0 0 0"/>
      <inertia ixx="1e-6" ixy="0" ixz="0" iyy="1e-6" iyz="0" izz="1e-6"/>
    </inertial>
  </link>
  <joint name="camera_optical_joint_chin" type="fixed">
    <origin rpy="-1.5707963267948966 0 -1.5707963267948966" xyz="0 0 0"/>
    <parent link="camera_chin"/>
    <child link="camera_optical_chin"/>
  </joint>
  <link name="camera_optical_chin">
        </link>
  <gazebo reference="camera_chin">
    <!-- <material>Gazebo/Black</material> -->
    <sensor name="camera_chin_camera" type="depth">
      <update_rate>16</update_rate>
      <camera>
        <horizontal_fov>2.094</horizontal_fov>
        <image>
          <width>928</width>
          <height>800</height>
          <format>R8G8B8</format>
        </image>
        <clip>
          <near>0.1</near>
          <far>5</far>
        </clip>
      </camera>
      <plugin filename="libgazebo_ros_openni_kinect.so" name="camera_chin_controller">
        <baseline>0.025</baseline>
        <alwaysOn>true</alwaysOn>
        <updateRate>0.0</updateRate>
        <cameraName>camera_chin_ir</cameraName>
        <imageTopicName>/camera_chin/color/image_raw</imageTopicName>
        <cameraInfoTopicName>/camera_chin/color/camera_info</cameraInfoTopicName>
        <depthImageTopicName>/camera_chin/depth/image_raw</depthImageTopicName>
        <depthImageInfoTopicName>/camera_chin/depth/camera_info</depthImageInfoTopicName>
        <!-- <pointCloudTopicName>/camera_${name}/depth/points</pointCloudTopicName> -->
        <pointCloudTopicName>/cam2/point_cloud_chin</pointCloudTopicName>
        <frameName>camera_optical_chin</frameName>
        <pointCloudCutoff>0.1</pointCloudCutoff>
        <pointCloudCutoffMax>1.5</pointCloudCutoffMax>
        <distortionK1>0.0</distortionK1>
        <distortionK2>0.0</distortionK2>
        <distortionK3>0.0</distortionK3>
        <distortionT1>0.0</distortionT1>
        <distortionT2>0.0</distortionT2>
        <CxPrime>0</CxPrime>
        <Cx>0.0045</Cx>
        <Cy>0.0039</Cy>
        <focalLength>0</focalLength>
        <hackBaseline>0</hackBaseline>
      </plugin>
    </sensor>
  </gazebo>
  <joint name="camera_joint_left" type="fixed">
    <origin rpy="3.141592653589793 0.2618 1.5707963267948966" xyz="-0.066 0.082 -0.0176"/>
    <parent link="trunk"/>
    <child link="camera_left"/>
  </joint>
  <link name="camera_left">
    <visual> <!-- a -->
      <origin rpy="0 0 0" xyz="0 0 0"/>
      <geometry>
        <box size=".001 .001 .001"/>
      </geometry>
    <material name="trans"/></visual> <!-- a -->
    <visual>
      <origin rpy="0 0 0" xyz="0 0 0"/>
      <geometry>
        <mesh filename="package://go1_description/meshes/depthCamera.dae" scale="1 1 1"/>
      </geometry>
    </visual>
    <inertial>
      <mass value="1e-5"/>
      <origin rpy="0 0 0" xyz="0 0 0"/>
      <inertia ixx="1e-6" ixy="0" ixz="0" iyy="1e-6" iyz="0" izz="1e-6"/>
    </inertial>
  </link>
  <joint name="camera_optical_joint_left" type="fixed">
    <origin rpy="-1.5707963267948966 0 -1.5707963267948966" xyz="0 0 0"/>
    <parent link="camera_left"/>
    <child link="camera_optical_left"/>
  </joint>
  <link name="camera_optical_left">
        </link>
  <gazebo reference="camera_left">
    <!-- <material>Gazebo/Black</material> -->
    <sensor name="camera_left_camera" type="depth">
      <update_rate>16</update_rate>
      <camera>
        <horizontal_fov>2.094</horizontal_fov>
        <image>
          <width>928</width>
          <height>800</height>
          <format>R8G8B8</format>
        </image>
        <clip>
          <near>0.1</near>
          <far>5</far>
        </clip>
      </camera>
      <plugin filename="libgazebo_ros_openni_kinect.so" name="camera_left_controller">
        <baseline>0.025</baseline>
        <alwaysOn>true</alwaysOn>
        <updateRate>0.0</updateRate>
        <cameraName>camera_left_ir</cameraName>
        <imageTopicName>/camera_left/color/image_raw</imageTopicName>
        <cameraInfoTopicName>/camera_left/color/camera_info</cameraInfoTopicName>
        <depthImageTopicName>/camera_left/depth/image_raw</depthImageTopicName>
        <depthImageInfoTopicName>/camera_left/depth/camera_info</depthImageInfoTopicName>
        <!-- <pointCloudTopicName>/camera_${name}/depth/points</pointCloudTopicName> -->
        <pointCloudTopicName>/cam3/point_cloud_left</pointCloudTopicName>
        <frameName>camera_optical_left</frameName>
        <pointCloudCutoff>0.1</pointCloudCutoff>
        <pointCloudCutoffMax>1.5</pointCloudCutoffMax>
        <distortionK1>0.0</distortionK1>
        <distortionK2>0.0</distortionK2>
        <distortionK3>0.0</distortionK3>
        <distortionT1>0.0</distortionT1>
        <distortionT2>0.0</distortionT2>
        <CxPrime>0</CxPrime>
        <Cx>0.0045</Cx>
        <Cy>0.0039</Cy>
        <focalLength>0</focalLength>
        <hackBaseline>0</hackBaseline>
      </plugin>
    </sensor>
  </gazebo>
  <joint name="camera_joint_right" type="fixed">
    <origin rpy="3.141592653589793 0.2618 -1.5707963267948966" xyz="-0.041 -0.082 -0.0176"/>
    <parent link="trunk"/>
    <child link="camera_right"/>
  </joint>
  <link name="camera_right">
    <visual> <!-- a -->
      <origin rpy="0 0 0" xyz="0 0 0"/>
      <geometry>
        <box size=".001 .001 .001"/>
      </geometry>
    <material name="trans"/></visual> <!-- a -->
    <visual>
      <origin rpy="0 0 0" xyz="0 0 0"/>
      <geometry>
        <mesh filename="package://go1_description/meshes/depthCamera.dae" scale="1 1 1"/>
      </geometry>
    </visual>
    <inertial>
      <mass value="1e-5"/>
      <origin rpy="0 0 0" xyz="0 0 0"/>
      <inertia ixx="1e-6" ixy="0" ixz="0" iyy="1e-6" iyz="0" izz="1e-6"/>
    </inertial>
  </link>
  <joint name="camera_optical_joint_right" type="fixed">
    <origin rpy="-1.5707963267948966 0 -1.5707963267948966" xyz="0 0 0"/>
    <parent link="camera_right"/>
    <child link="camera_optical_right"/>
  </joint>
  <link name="camera_optical_right">
        </link>
  <gazebo reference="camera_right">
    <!-- <material>Gazebo/Black</material> -->
    <sensor name="camera_right_camera" type="depth">
      <update_rate>16</update_rate>
      <camera>
        <horizontal_fov>2.094</horizontal_fov>
        <image>
          <width>928</width>
          <height>800</height>
          <format>R8G8B8</format>
        </image>
        <clip>
          <near>0.1</near>
          <far>5</far>
        </clip>
      </camera>
      <plugin filename="libgazebo_ros_openni_kinect.so" name="camera_right_controller">
        <baseline>0.025</baseline>
        <alwaysOn>true</alwaysOn>
        <updateRate>0.0</updateRate>
        <cameraName>camera_right_ir</cameraName>
        <imageTopicName>/camera_right/color/image_raw</imageTopicName>
        <cameraInfoTopicName>/camera_right/color/camera_info</cameraInfoTopicName>
        <depthImageTopicName>/camera_right/depth/image_raw</depthImageTopicName>
        <depthImageInfoTopicName>/camera_right/depth/camera_info</depthImageInfoTopicName>
        <!-- <pointCloudTopicName>/camera_${name}/depth/points</pointCloudTopicName> -->
        <pointCloudTopicName>/cam4/point_cloud_right</pointCloudTopicName>
        <frameName>camera_optical_right</frameName>
        <pointCloudCutoff>0.1</pointCloudCutoff>
        <pointCloudCutoffMax>1.5</pointCloudCutoffMax>
        <distortionK1>0.0</distortionK1>
        <distortionK2>0.0</distortionK2>
        <distortionK3>0.0</distortionK3>
        <distortionT1>0.0</distortionT1>
        <distortionT2>0.0</distortionT2>
        <CxPrime>0</CxPrime>
        <Cx>0.0045</Cx>
        <Cy>0.0039</Cy>
        <focalLength>0</focalLength>
        <hackBaseline>0</hackBaseline>
      </plugin>
    </sensor>
  </gazebo>
  <joint name="camera_joint_rearDown" type="fixed">
    <origin rpy="3.141592653589793 1.5707963267948966 0" xyz="-0.0825 0.0125 -0.04365"/>
    <parent link="trunk"/>
    <child link="camera_rearDown"/>
  </joint>
  <link name="camera_rearDown">
    <visual> <!-- a -->
      <origin rpy="0 0 0" xyz="0 0 0"/>
      <geometry>
        <box size=".001 .001 .001"/>
      </geometry>
    <material name="trans"/></visual> <!-- a -->
    <visual>
      <origin rpy="0 0 0" xyz="0 0 0"/>
      <geometry>
        <mesh filename="package://go1_description/meshes/depthCamera.dae" scale="1 1 1"/>
      </geometry>
    </visual>
    <inertial>
      <mass value="1e-5"/>
      <origin rpy="0 0 0" xyz="0 0 0"/>
      <inertia ixx="1e-6" ixy="0" ixz="0" iyy="1e-6" iyz="0" izz="1e-6"/>
    </inertial>
  </link>
  <joint name="camera_optical_joint_rearDown" type="fixed">
    <origin rpy="-1.5707963267948966 0 -1.5707963267948966" xyz="0 0 0"/>
    <parent link="camera_rearDown"/>
    <child link="camera_optical_rearDown"/>
  </joint>
  <link name="camera_optical_rearDown">
        </link>
  <gazebo reference="camera_rearDown">
    <!-- <material>Gazebo/Black</material> -->
    <sensor name="camera_rearDown_camera" type="depth">
      <update_rate>16</update_rate>
      <camera>
        <horizontal_fov>2.094</horizontal_fov>
        <image>
          <width>928</width>
          <height>800</height>
          <format>R8G8B8</format>
        </image>
        <clip>
          <near>0.1</near>
          <far>5</far>
        </clip>
      </camera>
      <plugin filename="libgazebo_ros_openni_kinect.so" name="camera_rearDown_controller">
        <baseline>0.025</baseline>
        <alwaysOn>true</alwaysOn>
        <updateRate>0.0</updateRate>
        <cameraName>camera_rearDown_ir</cameraName>
        <imageTopicName>/camera_rearDown/color/image_raw</imageTopicName>
        <cameraInfoTopicName>/camera_rearDown/color/camera_info</cameraInfoTopicName>
        <depthImageTopicName>/camera_rearDown/depth/image_raw</depthImageTopicName>
        <depthImageInfoTopicName>/camera_rearDown/depth/camera_info</depthImageInfoTopicName>
        <!-- <pointCloudTopicName>/camera_${name}/depth/points</pointCloudTopicName> -->
        <pointCloudTopicName>/cam5/point_cloud_rearDown</pointCloudTopicName>
        <frameName>camera_optical_rearDown</frameName>
        <pointCloudCutoff>0.1</pointCloudCutoff>
        <pointCloudCutoffMax>1.5</pointCloudCutoffMax>
        <distortionK1>0.0</distortionK1>
        <distortionK2>0.0</distortionK2>
        <distortionK3>0.0</distortionK3>
        <distortionT1>0.0</distortionT1>
        <distortionT2>0.0</distortionT2>
        <CxPrime>0</CxPrime>
        <Cx>0.0045</Cx>
        <Cy>0.0039</Cy>
        <focalLength>0</focalLength>
        <hackBaseline>0</hackBaseline>
      </plugin>
    </sensor>
  </gazebo>
  <joint name="camera_laserscan_joint_left" type="fixed">
    <origin rpy="0 0.2618 0" xyz="0 0 0"/>
    <parent link="camera_left"/>
    <child link="camera_laserscan_link_left"/>
  </joint>
  <link name="camera_laserscan_link_left">
    </link>
  <joint name="camera_laserscan_joint_right" type="fixed">
    <origin rpy="0 0.2618 0" xyz="0 0 0"/>
    <parent link="camera_right"/>
    <child link="camera_laserscan_link_right"/>
  </joint>
  <link name="camera_laserscan_link_right">
    </link>
  <joint name="ultraSound_joint_left" type="fixed">
    <origin rpy="0 0.2618 1.5707963267948966" xyz="-0.0535 0.0826 0.00868"/>
    <parent link="trunk"/>
    <child link="ultraSound_left"/>
  </joint>
  <link name="ultraSound_left">
    <visual> <!-- a -->
      <origin rpy="0 0 0" xyz="0 0 0"/>
      <geometry>
        <box size=".001 .001 .001"/>
      </geometry>
    <material name="trans"/></visual> <!-- a -->
    <visual>
      <origin rpy="0 0 0" xyz="0 0 0"/>
      <geometry>
        <mesh filename="package://go1_description/meshes/ultraSound.dae" scale="1 1 1"/>
      </geometry>
      <material name="black"/>
    </visual>
    <inertial>
      <mass value="1e-5"/>
      <origin rpy="0 0 0" xyz="0 0 0"/>
      <inertia ixx="1e-6" ixy="0" ixz="0" iyy="1e-6" iyz="0" izz="1e-6"/>
    </inertial>
  </link>
  <joint name="ultraSound_joint_right" type="fixed">
    <origin rpy="0 0.2618 -1.5707963267948966" xyz="-0.0535 -0.0826 0.00868"/>
    <parent link="trunk"/>
    <child link="ultraSound_right"/>
  </joint>
  <link name="ultraSound_right">
    <visual> <!-- a -->
      <origin rpy="0 0 0" xyz="0 0 0"/>
      <geometry>
        <box size=".001 .001 .001"/>
      </geometry>
    <material name="trans"/></visual> <!-- a -->
    <visual>
      <origin rpy="0 0 0" xyz="0 0 0"/>
      <geometry>
        <mesh filename="package://go1_description/meshes/ultraSound.dae" scale="1 1 1"/>
      </geometry>
      <material name="black"/>
    </visual>
    <inertial>
      <mass value="1e-5"/>
      <origin rpy="0 0 0" xyz="0 0 0"/>
      <inertia ixx="1e-6" ixy="0" ixz="0" iyy="1e-6" iyz="0" izz="1e-6"/>
    </inertial>
  </link>
  <joint name="ultraSound_joint_face" type="fixed">
    <origin rpy="0 0 0" xyz="0.2747 0.0 -0.0088"/>
    <parent link="trunk"/>
    <child link="ultraSound_face"/>
  </joint>
  <link name="ultraSound_face">
    <visual> <!-- a -->
      <origin rpy="0 0 0" xyz="0 0 0"/>
      <geometry>
        <box size=".001 .001 .001"/>
      </geometry>
    <material name="trans"/></visual> <!-- a -->
    <visual>
      <origin rpy="0 0 0" xyz="0 0 0"/>
      <geometry>
        <mesh filename="package://go1_description/meshes/ultraSound.dae" scale="1 1 1"/>
      </geometry>
      <material name="black"/>
    </visual>
    <inertial>
      <mass value="1e-5"/>
      <origin rpy="0 0 0" xyz="0 0 0"/>
      <inertia ixx="1e-6" ixy="0" ixz="0" iyy="1e-6" iyz="0" izz="1e-6"/>
    </inertial>
  </link>
  <!-- World -->
  <gazebo reference="world"/>
  <!-- Link1 -->
  <RefLink ref="link1"/>
  <gazebo reference="link1">
    <material>Gazebo/DarkGrey</material>
  </gazebo>
  <!-- Link2 -->
  <RefLink ref="link2"/>
  <gazebo reference="link2">
    <material>Gazebo/DarkGrey</material>
  </gazebo>
  <!-- Link3 -->
  <RefLink ref="link3"/>
  <gazebo reference="link3">
    <material>Gazebo/DarkGrey</material>
  </gazebo>
  <!-- Link4 -->
  <RefLink ref="link4"/>
  <gazebo reference="link4">
    <material>Gazebo/DarkGrey</material>
  </gazebo>
  <!-- Link5 -->
  <RefLink ref="link5"/>
  <gazebo reference="link5">
    <material>Gazebo/DarkGrey</material>
  </gazebo>
  <!-- gripper_link -->
  <RefLink ref="gripper_link"/>
  <gazebo reference="gripper_link">
    <material>Gazebo/DarkGrey</material>
  </gazebo>
  <!-- gripper_link_sub -->
  <RefLink ref="gripper_link_sub"/>
  <gazebo reference="gripper_link_sub">
    <material>Gazebo/DarkGrey</material>
  </gazebo>
  <!-- end effector link -->
  <gazebo reference="end_effector_link">
    <material>Gazebo/Red</material>
  </gazebo>
  <!-- ros_control plugin -->
  <gazebo>
    <plugin filename="libgazebo_ros_control.so" name="gazebo_ros_control">
      <controlPeriod>0.001</controlPeriod>
      <robotSimType>gazebo_ros_control/DefaultRobotHWSim</robotSimType>
      <legacyModeNS>true</legacyModeNS>
    </plugin>
  </gazebo>
  <gazebo>
    <!-- loading plugin: mimic joints works in gazebo now -->
    <plugin filename="libroboticsgroup_gazebo_mimic_joint_plugin.so" name="gazebo_gripper_ros_control">
      <joint>gripper</joint>
      <mimicJoint>gripper_sub</mimicJoint>
      <multiplier>1.0</multiplier>
      <offset>0.0</offset>
    </plugin>
  </gazebo>
  <!-- camera -->
  <gazebo reference="camera_link">
    <sensor name="intel_realsense_r200" type="camera">
      <update_rate>30.0</update_rate>
      <camera name="head">
        <horizontal_fov>1.02974</horizontal_fov>
        <image>
          <width>1920</width>
          <height>1080</height>
          <format>R8G8B8</format>
        </image>
        <clip>
          <near>0.02</near>
          <far>300</far>
        </clip>
        <noise>
          <type>gaussian</type>
          <!-- Noise is sampled independently per pixel on each frame.
               That pixel's noise value is added to each of its color
               channels, which at that point lie in the range [0,1]. -->
          <mean>0.0</mean>
          <stddev>0.007</stddev>
        </noise>
      </camera>
      <plugin filename="libgazebo_ros_camera.so" name="camera_controller">
        <alwaysOn>true</alwaysOn>
        <updateRate>0.0</updateRate>
        <cameraName>camera/color</cameraName>
        <imageTopicName>image_raw</imageTopicName>
        <cameraInfoTopicName>camera_info</cameraInfoTopicName>
        <frameName>camera_link</frameName>
        <hackBaseline>0.07</hackBaseline>
        <distortionK1>0.0</distortionK1>
        <distortionK2>0.0</distortionK2>
        <distortionK3>0.0</distortionK3>
        <distortionT1>0.0</distortionT1>
        <distortionT2>0.0</distortionT2>
      </plugin>
    </sensor>
  </gazebo>
  <transmission name="tran1">
    <type>transmission_interface/SimpleTransmission</type>
    <joint name="joint1">
      <hardwareInterface>hardware_interface/PositionJointInterface</hardwareInterface>
    </joint>
    <actuator name="motor1">
      <mechanicalReduction>1</mechanicalReduction>
    </actuator>
  </transmission>
  <transmission name="tran2">
    <type>transmission_interface/SimpleTransmission</type>
    <joint name="joint2">
      <hardwareInterface>hardware_interface/PositionJointInterface</hardwareInterface>
    </joint>
    <actuator name="motor2">
      <mechanicalReduction>1</mechanicalReduction>
    </actuator>
  </transmission>
  <transmission name="tran3">
    <type>transmission_interface/SimpleTransmission</type>
    <joint name="joint3">
      <hardwareInterface>hardware_interface/PositionJointInterface</hardwareInterface>
    </joint>
    <actuator name="motor3">
      <mechanicalReduction>1</mechanicalReduction>
    </actuator>
  </transmission>
  <transmission name="tran4">
    <type>transmission_interface/SimpleTransmission</type>
    <joint name="joint4">
      <hardwareInterface>hardware_interface/PositionJointInterface</hardwareInterface>
    </joint>
    <actuator name="motor4">
      <mechanicalReduction>1</mechanicalReduction>
    </actuator>
  </transmission>
  <transmission name="tran5">
    <type>transmission_interface/SimpleTransmission</type>
    <joint name="gripper">
      <hardwareInterface>hardware_interface/EffortJointInterface</hardwareInterface>
    </joint>
    <actuator name="motor5">
      <mechanicalReduction>1</mechanicalReduction>
    </actuator>
  </transmission>
  <transmission name="tran6">
    <type>transmission_interface/SimpleTransmission</type>
    <joint name="gripper_sub">
      <hardwareInterface>hardware_interface/EffortJointInterface</hardwareInterface>
    </joint>
    <actuator name="motor6">
      <mechanicalReduction>1</mechanicalReduction>
    </actuator>
  </transmission>
  
  <!-- Open Manipulator Add on -->
  <joint name="front_top_mount_joint" type="fixed">
    <parent link="ultraSound_face"/>
    <child link="front_top_mount"/>
    <origin rpy="0 0 0" xyz="-0.17 0.0 0.045"/>
  </joint>
  <link name="front_top_mount"/>
  <joint name="open_manipulator_joint" type="fixed">
    <parent link="front_top_mount"/>
    <child link="link1"/>
    <origin rpy="0 0 0" xyz="0.1025 0 0.045"/>
  </joint>
  <!-- Link 1 -->
  <link name="link1">
    <visual>
      <origin rpy="0 0 0" xyz="-0.015 0 -0.015"/>
      <geometry>
        <mesh filename="package://go1_description/meshes/open_manipulator/chain_link1.stl" scale="0.001 0.001 0.001"/>
      </geometry>
      <material name="grey"/>
    </visual>
    <visual> <!-- a -->
      <origin rpy="0 0 0" xyz="-0.015 0 -0.015"/>
      <geometry>
        <box size=".060 .0250 .0250"/>
      </geometry>
    <material name="trans"/></visual> <!-- a -->
    <inertial>
      <origin xyz="3.0876154e-04 0.0000000e+00 -1.2176461e-04"/>
      <mass value="7.9119962e-02"/>
      <inertia ixx="1.2505234e-05" ixy="0.0" ixz="-1.7855208e-07" iyy="2.1898364e-05" iyz="0.0" izz="1.9267361e-05"/>
    </inertial>
  </link>
  <!-- Joint 1 -->
  <joint name="joint1" type="revolute">
    <parent link="link1"/>
    <child link="link2"/>
    <origin rpy="0 0 0" xyz="0 0 0"/>
    <axis xyz="0 0 1"/>
    <limit effort="1" lower="-2.827433388230814" upper="2.827433388230814" velocity="4.8"/>
  </joint>
  <!--  Link 2 -->
  <link name="link2">
    <visual>
      <origin rpy="0 0 0" xyz="0 0 0.019"/>
      <geometry>
        <mesh filename="package://go1_description/meshes/open_manipulator/chain_link2.stl" scale="0.001 0.001 0.001"/>
      </geometry>
      <material name="grey"/>
    </visual>
    <visual> <!-- a -->
      <origin rpy="0 0 0" xyz="0 0 0.03"/>
      <geometry>
        <box size=".03 .03 .080"/>
      </geometry>
    <material name="trans"/></visual> <!-- a -->
    <inertial>
      <origin xyz="-3.0184870e-04 5.4043684e-04 0.047433463999999995"/>
      <mass value="9.8406837e-02"/>
      <inertia ixx="3.4543422e-05" ixy="-1.6031095e-08" ixz="-3.8375155e-07" iyy="3.2689329e-05" iyz="2.8511935e-08" izz="1.8850320e-05"/>
    </inertial>
  </link>
  <!--  Joint 2 -->
  <joint name="joint2" type="revolute">
    <parent link="link2"/>
    <child link="link3"/>
    <origin rpy="0 0 0" xyz="0.0 0.0 0.0595"/>
    <axis xyz="0 1 0"/>
    <limit effort="1" lower="-1.790707812546182" upper="1.790707812546182" velocity="4.8"/>
  </joint>
  <!--  Link 3 -->
  <link name="link3">
    <visual>
      <origin rpy="0 0 0" xyz="-0.025 0 0.005"/>
      <geometry>
        <mesh filename="package://go1_description/meshes/open_manipulator/chain_link3_mod.stl" scale="0.001 0.001 0.001"/>
      </geometry>
      <material name="grey"/>
    </visual>
    <visual> <!-- a -->
      <origin rpy="0 0 0" xyz="0 0 .10"/>
      <geometry>
        <box size=".02 .030 .185"/>
      </geometry>
    <material name="trans"/></visual> <!-- a -->
    <inertial>
      <origin xyz="1.0308393e-02 3.7743363e-04 1.0170197e-01"/>
      <mass value="1.3850917e-01"/>
      <inertia ixx="3.3055381e-04" ixy="-9.7940978e-08" ixz="-3.8505711e-05" iyy="3.4290447e-04" iyz="-1.5717516e-06" izz="6.0346498e-05"/>
    </inertial>
  </link>
  <!--  Joint 3 -->
  <joint name="joint3" type="revolute">
    <parent link="link3"/>
    <child link="link4"/>
    <origin rpy="0 0 0" xyz="0.0265 0 0.179"/>
    <axis xyz="0 1 0"/>
    <limit effort="1" lower="-1.790707812546182" upper="1.382300767579509" velocity="4.8"/>
  </joint>
  <!--  Link 4 -->
  <link name="link4">
    <visual>
      <origin rpy="0 0 0" xyz="-0 0 -0"/>
      <geometry>
        <mesh filename="package://go1_description/meshes/open_manipulator/chain_link4_mod.stl" scale="0.001 0.001 0.001"/>
      </geometry>
      <material name="grey"/>
    </visual>
    <visual> <!-- a -->
      <origin rpy="0 0 0" xyz=".10 0 0"/>
      <geometry>
        <box size=".23 .030 .02"/>
      </geometry>
    <material name="trans"/></visual> <!-- a -->
    <inertial>
      <origin xyz="9.0909590e-02 3.8929816e-04 2.2413279e-04"/>
      <mass value="1.3274562e-01"/>
      <inertia ixx="3.0654178e-05" ixy="-1.2764155e-06" ixz="-2.6874417e-07" iyy="2.4230292e-04" iyz="1.1559550e-08" izz="2.5155057e-04"/>
    </inertial>
  </link>
  <!--  Joint 4 -->
  <joint name="joint4" type="revolute">
    <parent link="link4"/>
    <child link="link5"/>
    <origin rpy="0 0 0" xyz="0.202 0.0 0.0"/>
    <axis xyz="0 1 0"/>
    <limit effort="1" lower="-1.790707812546182" upper="1.790707812546182" velocity="4.8"/>
  </joint>
  <!--  Link 5 -->
  <link name="link5">
    <visual>
      <origin rpy="0 0 0" xyz="0 0 0.0"/>
      <geometry>
        <mesh filename="package://go1_description/meshes/open_manipulator/chain_link5.stl" scale="0.001 0.001 0.001"/>
      </geometry>
      <material name="grey"/>
    </visual>
    <visual> <!-- a -->
      <origin rpy="0 0 0" xyz=".03 0 0"/>
      <geometry>
        <box size=".060 .060 .060"/>
      </geometry>
    <material name="trans"/></visual> <!-- a -->
    <inertial>
      <origin xyz="4.4206755e-02 3.6839985e-07 8.9142216e-03"/>
      <mass value="1.4327573e-01"/>
      <inertia ixx="8.0870749e-05" ixy="0.0" ixz="-1.0157896e-06" iyy="7.5980465e-05" iyz="0.0" izz="9.3127351e-05"/>
    </inertial>
  </link>
  <!--  Gripper joint -->
  <joint name="gripper" type="prismatic">
    <parent link="link5"/>
    <child link="gripper_link"/>
    <origin rpy="0 0 0" xyz="0.0817 0.021 0.0"/>
    <axis xyz="0 1 0"/>
    <limit effort="1" lower="-0.010" upper="0.019" velocity="4.8"/>
  </joint>
  <!--  Gripper link -->
  <link name="gripper_link">
    <visual>
      <origin rpy="0 0 0" xyz="0.0 0 0.0"/>
      <geometry>
        <mesh filename="package://go1_description/meshes/open_manipulator/chain_link_grip_l.stl" scale="0.001 0.001 0.001"/>
      </geometry>
      <material name="grey"/>
    </visual>
    <visual> <!-- a -->
      <origin rpy="0 0 0" xyz=".010 .0250 0"/>
      <geometry>
        <box size=".110 .050 .050"/>
      </geometry>
    <material name="trans"/></visual> <!-- a -->
    <inertial>
      <origin xyz="0 0 0"/>
      <mass value="1.0e-03"/>
      <inertia ixx="1.0e-03" ixy="0.0" ixz="0.0" iyy="1.0e-03" iyz="0.0" izz="1.0e-03"/>
    </inertial>
  </link>
  <!--  Gripper joint sub -->
  <joint name="gripper_sub" type="prismatic">
    <parent link="link5"/>
    <child link="gripper_link_sub"/>
    <origin rpy="0 0 0" xyz="0.0817 -0.021 0"/>
    <axis xyz="0 -1 0"/>
    <limit effort="1" lower="-0.010" upper="0.019" velocity="4.8"/>
    <mimic joint="gripper" multiplier="1"/>
  </joint>
  <!--  Gripper link sub -->
  <link name="gripper_link_sub">
    <visual>
      <origin rpy="0 0 0" xyz="0 -0 0"/>
      <geometry>
        <mesh filename="package://go1_description/meshes/open_manipulator/chain_link_grip_r.stl" scale="0.001 0.001 0.001"/>
      </geometry>
      <material name="grey"/>
    </visual>
    <visual> <!-- a -->
      <origin rpy="0 0 0" xyz=".01 -.0250 0"/>
      <geometry>
        <box size=".110 .050 .050"/>
      </geometry>
    <material name="trans"/></visual> <!-- a -->
    <inertial>
      <origin xyz="0 0 0"/>
      <mass value="1.0e-03"/>
      <inertia ixx="1.0e-03" ixy="0.0" ixz="0.0" iyy="1.0e-03" iyz="0.0" izz="1.0e-03"/>
    </inertial>
  </link>
  <!-- virtual chains -->
  <joint name="virtual_joint_1" type="revolute">
    <parent link="link5"/>
    <child link="virtual_1"/>
    <origin rpy="0 0 0" xyz="0 0 0"/>
    <axis xyz="1 0 0"/>
    <limit effort="1" lower="-3.14" upper="3.14" velocity="4.8"/>
  </joint>
  <link name="virtual_1" />
  <joint name="virtual_joint_2" type="revolute">
    <parent link="virtual_1"/>
    <child link="virtual_2"/>
    <origin rpy="0 0 0" xyz="0.126 0 0"/>
    <axis xyz="0 0 1"/>
    <limit effort="1" lower="-3.14" upper="3.14" velocity="4.8"/>
  </joint>
  <link name="virtual_2" />
  <!-- end effector joint -->
  <joint name="end_effector_joint" type="fixed">
    <origin rpy="0 0 0" xyz="0 0.0 0.0"/>
    <parent link="virtual_2"/>
    <child link="end_effector_link"/>
  </joint>
  <!-- end effector link -->
  <link name="end_effector_link">
    <visual>
      <origin rpy="0 0 0" xyz="0 0 0"/>
      <geometry>
        <box size="0.01 0.01 0.01"/>
      </geometry>
      <material name="red"/>
    </visual>
    <inertial>
      <origin xyz="0 0 0"/>
      <mass value="1.0e-03"/>
      <inertia ixx="1.0e-03" ixy="0.0" ixz="0.0" iyy="1.0e-03" iyz="0.0" izz="1.0e-03"/>
    </inertial>
  </link>
  <!-- Realsense Camera Joint Position -->
  <!--   <joint name="camera_joint" type="fixed">
    <axis xyz="0 1 0" />
    <origin xyz="0.070 0.032 0.052" rpy="0 0 0"/> 
    <parent link="link5"/>
    <child link="camera_link"/>
  </joint>

  <link name="camera_link"/> -->
  <!-- Open Manipulator Bracket -->
  <joint name="open_manipulator_bracket_joint" type="fixed">
    <parent link="front_top_mount"/>
    <child link="open_manipulator_bracket"/>
    <origin rpy="0 0 0" xyz="0.062 0 0.021"/>
  </joint>
  <link name="open_manipulator_bracket">
    <visual>
      <origin rpy="0 0 0" xyz="0 0 0"/>
      <geometry>
        <mesh filename="package://go1_description/meshes/3d_brackets/open_manipulator_casing.stl" scale="1 1 1"/>
      </geometry>
      <material name="orange"/>
    </visual>
    <visual>
      <origin rpy="0 0 0" xyz="0 0 0"/>
      <geometry>
        <mesh filename="package://go1_description/meshes/3d_brackets/open_manipulator_fixture.stl" scale="1 1 1"/>
      </geometry>
      <material name="grey"/>
    </visual>
    <visual> <!-- a -->
      <origin rpy="0 0 0" xyz="-.010 0 .020"/>
      <geometry>
        <box size=".115 .07 .040"/>
      </geometry>
    <material name="trans"/></visual> <!-- a -->
    <visual> <!-- a -->
      <origin rpy="0 0 0" xyz="-.0325 0 .05"/>
      <geometry>
        <box size=".07 .070 .05"/>
      </geometry>
    <material name="trans"/></visual> <!-- a -->
    <visual> <!-- a -->
      <origin rpy="0 0 0" xyz="-.0325 0.030 .050"/>
      <geometry>
        <box size=".07 .010 .10"/>
      </geometry>
    <material name="trans"/></visual> <!-- a -->
    <visual> <!-- a -->
      <origin rpy="0 0 0" xyz="-.0325 -0.030 .050"/>
      <geometry>
        <box size=".07 .010 .10"/>
      </geometry>
    <material name="trans"/></visual> <!-- a -->
  </link>
  
  <!-- ZED2 Add on -->
  <joint name="zed_holder_joint" type="fixed">
    <parent link="open_manipulator_bracket"/>
    <child link="zed_holder"/>
    <origin rpy="0 0 0" xyz="0 0 0"/>
  </joint>
  <link name="zed_holder">
    <visual>
      <geometry>
        <mesh filename="package://go1_description/meshes/3d_brackets/zed_holder.stl" scale="1 1 1"/>
      </geometry>
      <material name="orange"/>
    </visual>
    <visual> <!-- a -->
    <origin rpy="0 0 0" xyz="0.075 0 0.02"/>
      <geometry>
        <box size=".048 .03 .015"/>
      </geometry>
    <material name="trans"/></visual> <!-- a -->
  </link>
  <joint name="zed2_joint" type="fixed">
    <parent link="zed_holder"/>
    <child link="zed2"/>
    <origin rpy="0 0 0" xyz="0.085 0 0.042"/>
  </joint>
  <link name="zed2">
    <visual>
    <origin rpy="0 0 -1.5707963267948966" xyz="-0.015 0 -0.042"/>
      <geometry>
        <mesh filename="package://go1_description/meshes/3d_brackets/zed.stl" scale="0.001 0.001 0.001"/>
      </geometry>
    </visual>
    <visual> <!-- a -->
      <geometry>
        <box size=".03 .18 .03"/>
      </geometry>
    <material name="trans"/></visual> <!-- a -->
  </link>
  <joint name="zed_left_joint" type="fixed">
    <origin rpy="0 0 0" xyz="0 0.06 0"/>
    <parent link="zed2"/>
    <child link="zed_left_eye"/>
  </joint>
  <link name="zed_left_eye"></link>
  
  <!-- Robosense Bracket -->
  <link name="robosense_bracket">
    <visual>
      <geometry>
        <mesh filename="package://go1_description/meshes/3d_brackets/robosense_fixture.stl" scale="0.001 0.001 0.001"/>
      </geometry>
      <material name="grey"/>
    </visual>
    <visual> <!-- a -->
      <origin rpy="0 0 0" xyz="0.05 0.05 0.01"/>
      <geometry>
        <box size=".10 .10 .12"/>
      </geometry>
    <material name="trans"/></visual> <!-- a -->
  </link>
  <joint name="robosense_bracket_joint" type="fixed">
    <parent link="front_top_mount"/>
    <child link="robosense_bracket"/>
    <origin rpy="0 0 3.14159" xyz="-0.125 0.05 0.021"/>
  </joint>
  <!-- Robosense sensor casing-->
  <link name="robosense">
    <visual>
      <geometry>
        <mesh filename="package://go1_description/meshes/robosense/robosense.stl" scale="0.001 0.001 0.001"/>
      </geometry>
      <material name="grey"/>
    </visual>
    <visual> <!-- a -->
      <origin rpy="0 0 0" xyz="0.015 0 0.095"/>
      <geometry>
        <cylinder length="0.12" radius="0.055"/>
      </geometry>
    <material name="trans"/></visual> <!-- a -->
  </link>
  <joint name="robosense_joint" type="fixed">
    <parent link="robosense_bracket"/>
    <child link="robosense"/>
    <origin rpy="0.0 0.0 3.14159" xyz="0.046 0.05 0.03"/>
  </joint>
</robot>
